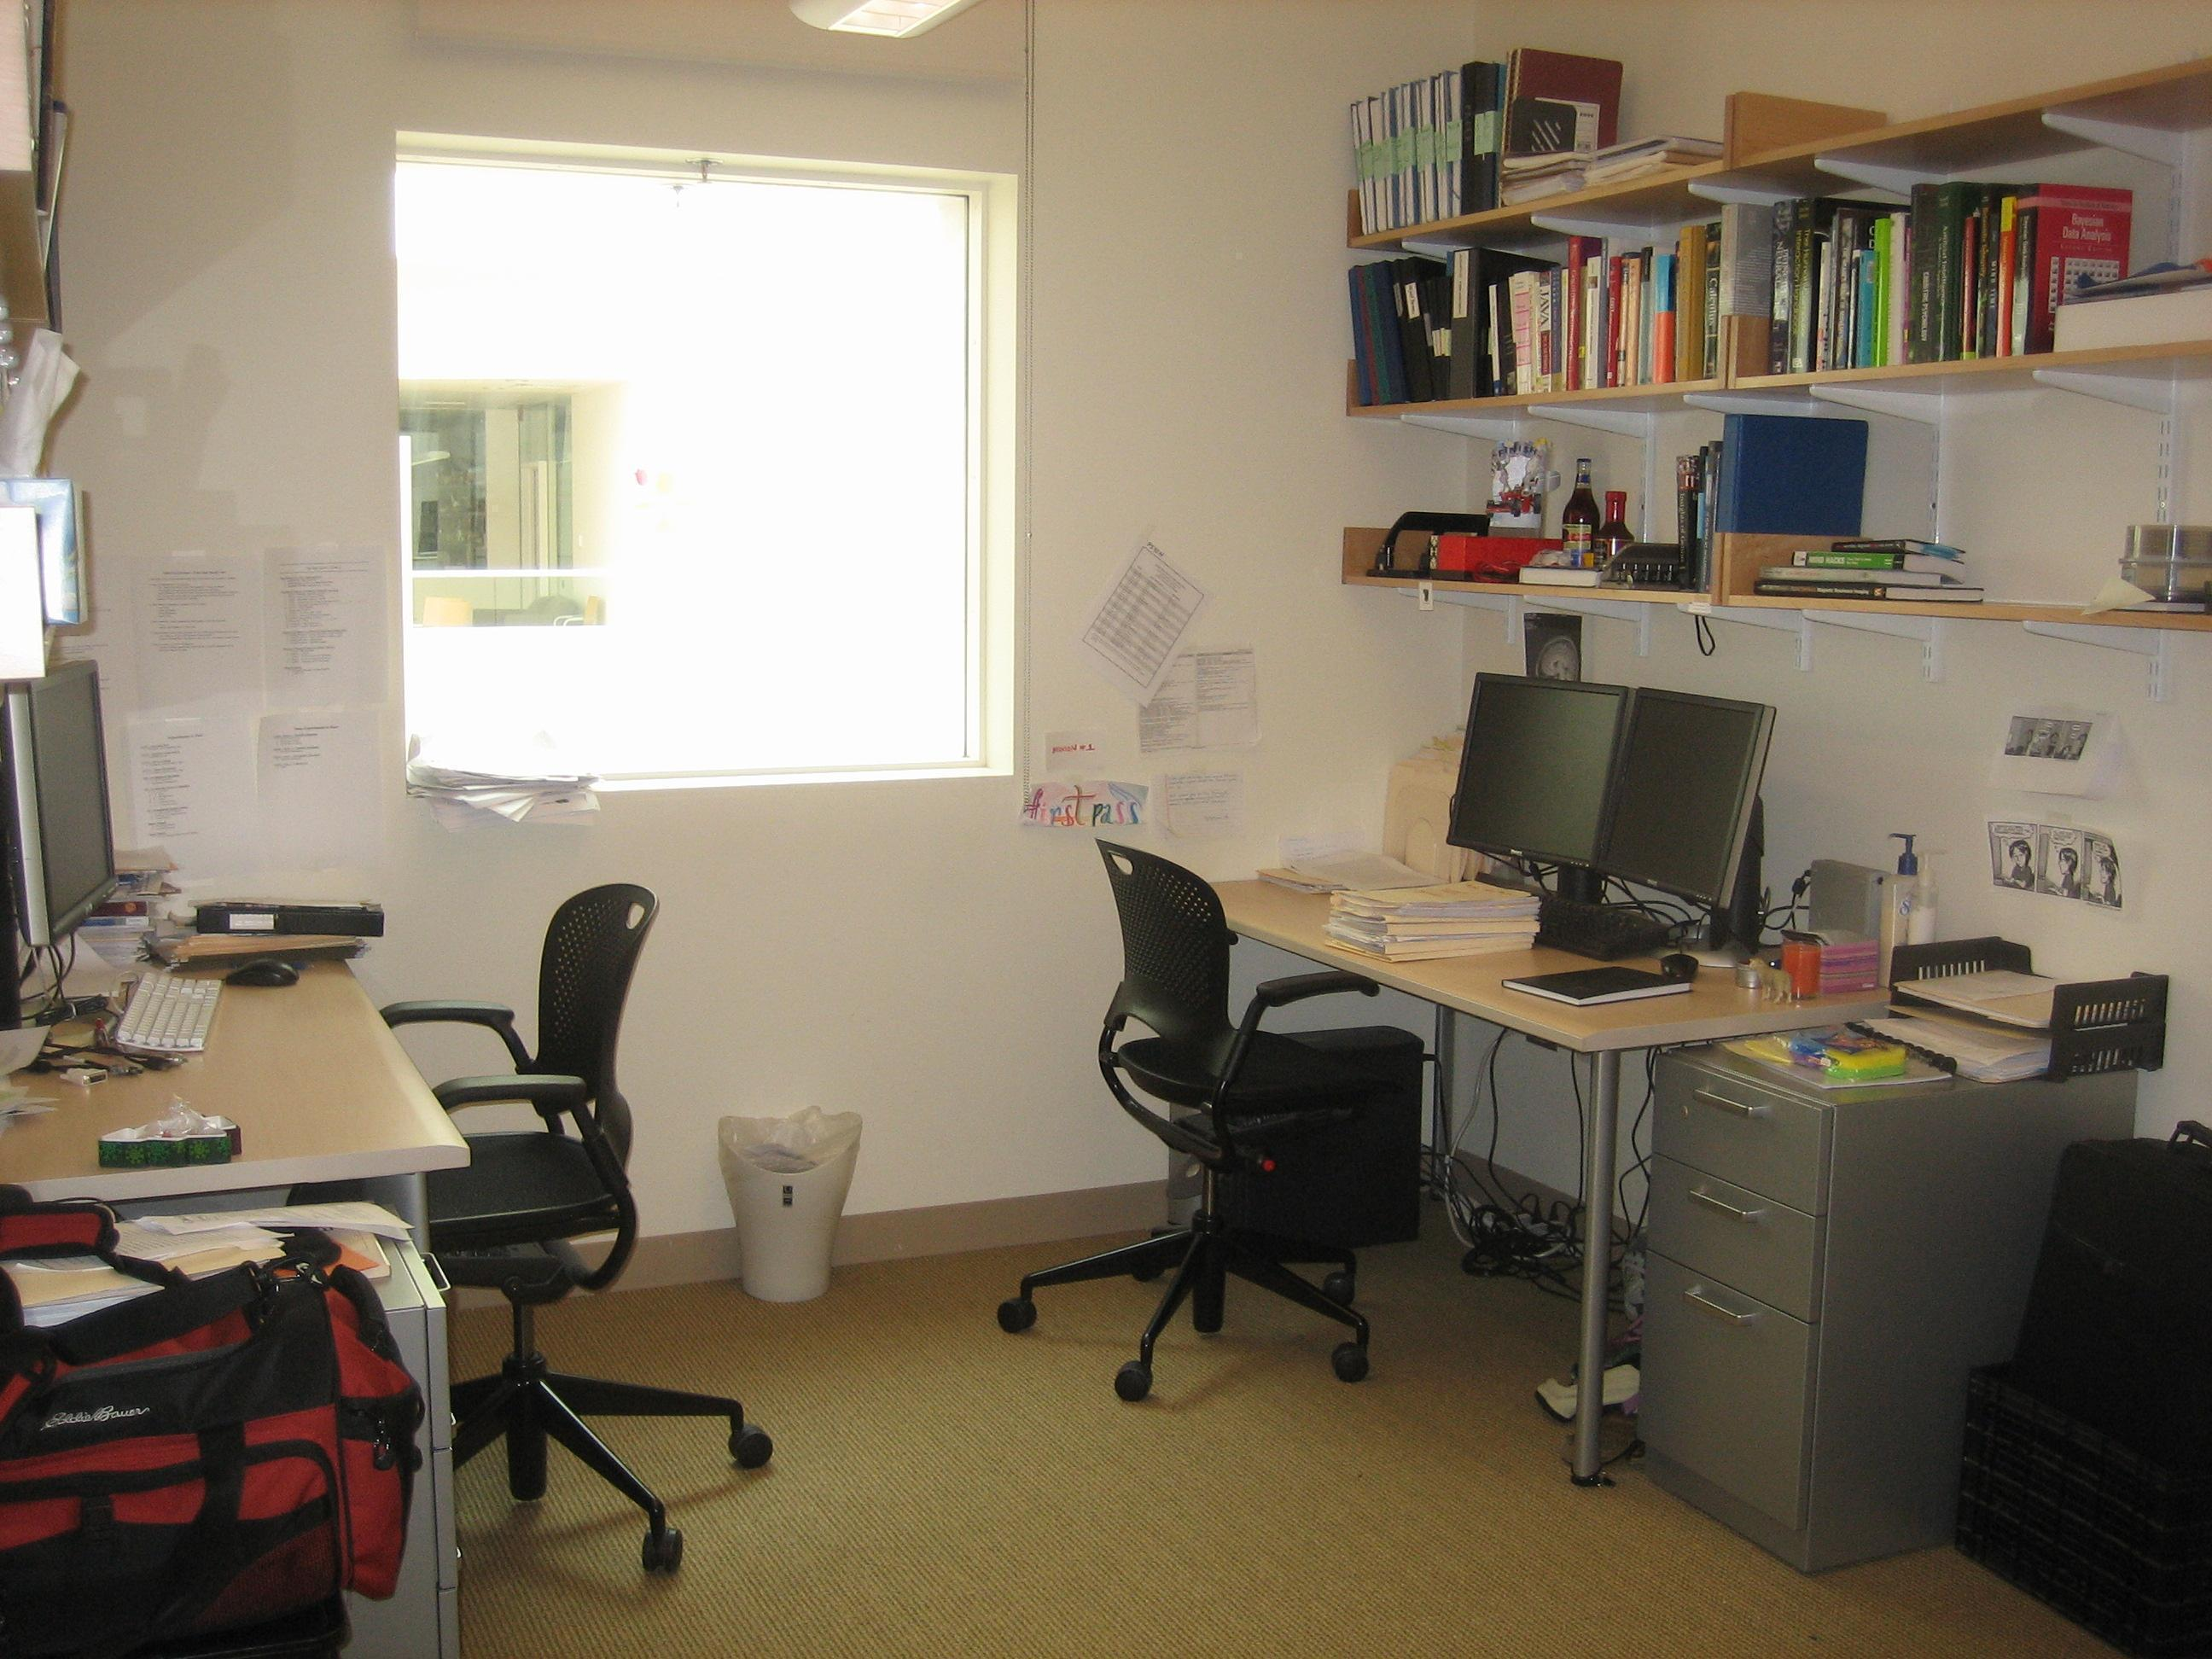Bote de Basura: (723, 1077, 850, 1297)
Otro Obstaculo: (30, 1237, 411, 1610)
Ventana: (390, 148, 993, 777)
